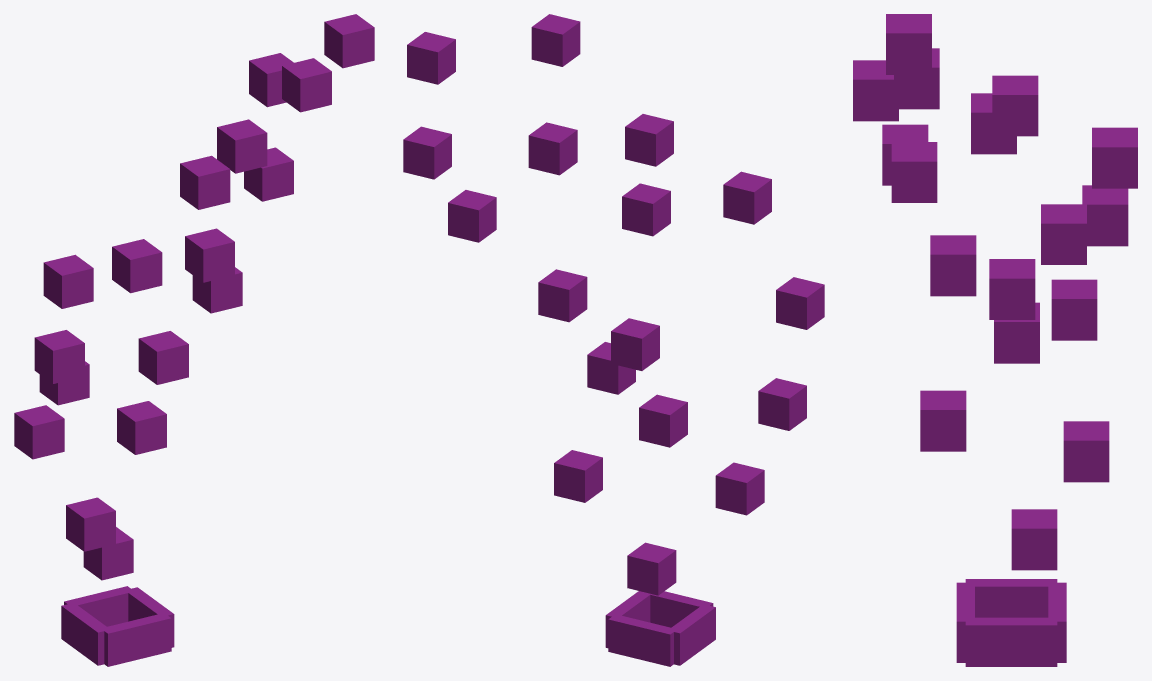
Rendered from SmallPoisonTrap.fbx.
3 views of the same model, side by side, from view 1: azimuth 30°, elevation 25°; view 2: azimuth 150°, elevation 25°; view 3: azimuth 270°, elevation 25° (orthographic). The views are drawn at different scales.
Parts seen in each view (by area): view 1: Cube.001, Cube.010, Cube.013, Cube.019, Cube.011, Cube.012, Cube.016, Cube.008, Cube.020, Cube.009, Cube.015, Cube.006 (+9 smaller); view 2: Cube.002, Cube.005, Cube.017, Cube.020, Cube.009, Cube.022, Cube.012, Cube.015, Cube.018, Cube.006, Cube.007, Cube.013 (+9 smaller); view 3: Cube.003, Cube.004, Cube.009, Cube.010, Cube.005, Cube.006, Cube.007, Cube.019, Cube.015, Cube.017, Cube.018, Cube.014 (+9 smaller).
Boxes of the visible parts, box(x1,y1,x2,y2) form: Cube.001: box(101, 613, 171, 666); Cube.010: box(14, 405, 64, 459); Cube.013: box(112, 239, 162, 293); Cube.019: box(324, 14, 374, 68); Cube.011: box(34, 330, 84, 383); Cube.012: box(43, 254, 93, 308); Cube.016: box(180, 155, 230, 209); Cube.008: box(138, 331, 188, 384); Cube.020: box(217, 119, 267, 173); Cube.009: box(66, 497, 115, 551); Cube.015: box(185, 228, 234, 282); Cube.006: box(117, 401, 166, 454); Cube.002: box(608, 615, 676, 666); Cube.005: box(627, 542, 676, 595); Cube.017: box(538, 269, 587, 322); Cube.020: box(528, 122, 577, 175); Cube.009: box(715, 462, 764, 515); Cube.022: box(531, 14, 580, 66); Cube.012: box(611, 318, 659, 370); Cube.015: box(622, 183, 670, 236); Cube.018: box(403, 126, 451, 179); Cube.006: box(554, 450, 602, 502); Cube.007: box(639, 394, 687, 447); Cube.013: box(723, 171, 771, 224); Cube.003: box(965, 617, 1057, 666); Cube.004: box(965, 579, 1057, 617); Cube.009: box(920, 390, 966, 451); Cube.010: box(930, 235, 976, 296); Cube.005: box(1011, 509, 1057, 570); Cube.006: box(1063, 421, 1109, 482); Cube.007: box(1051, 279, 1097, 340); Cube.019: box(992, 75, 1038, 136); Cube.015: box(891, 142, 937, 202); Cube.017: box(989, 259, 1035, 319); Cube.018: box(1092, 127, 1137, 188); Cube.014: box(1041, 204, 1086, 264).
Bounding box in the file's own units: 115 × 171 × 62.11.
